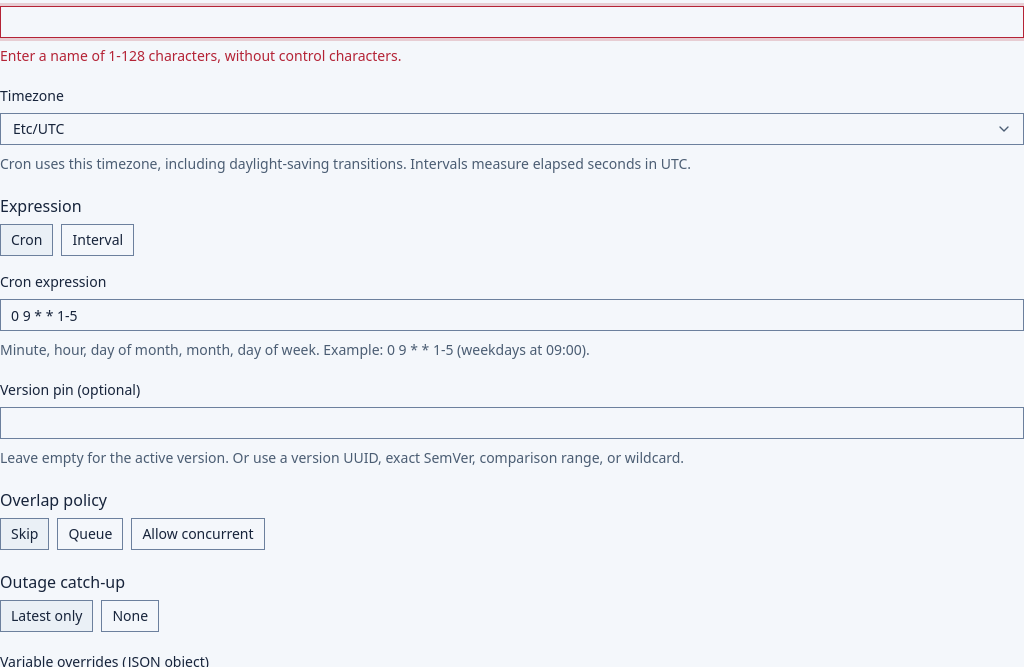
it: schedule action permissions › never previews or saves for a Viewer, including native form submission
This screenshot has width=1024, height=667.
In the field labelled "Schedule name": (512, 22) [0,6,1023,38], type "Viewer draft"
(page scrolled)
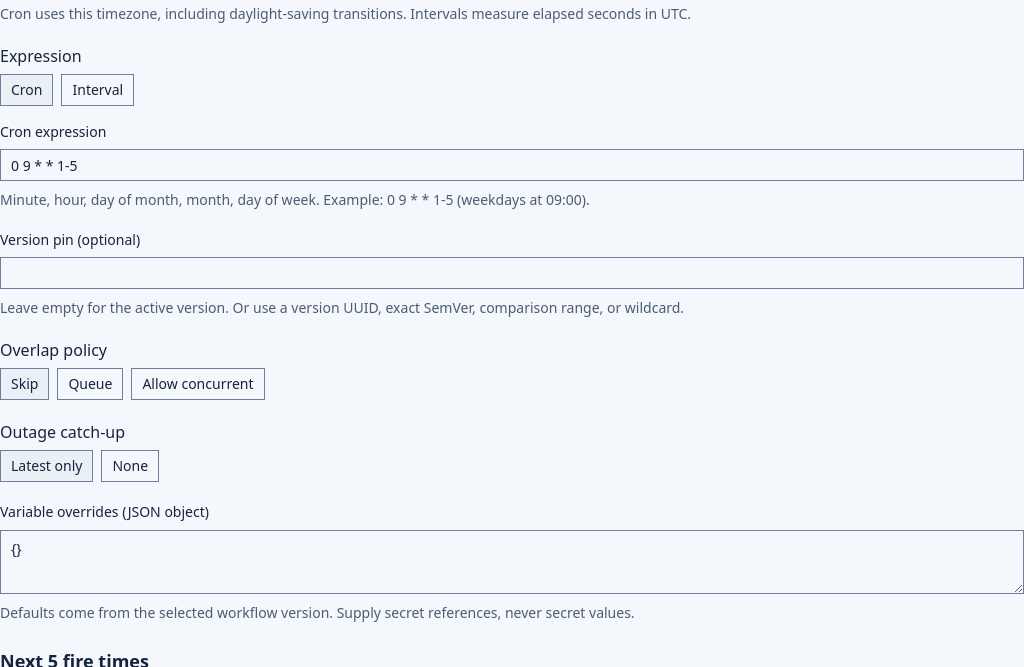
Submit the form "schedule"
(page scrolled)
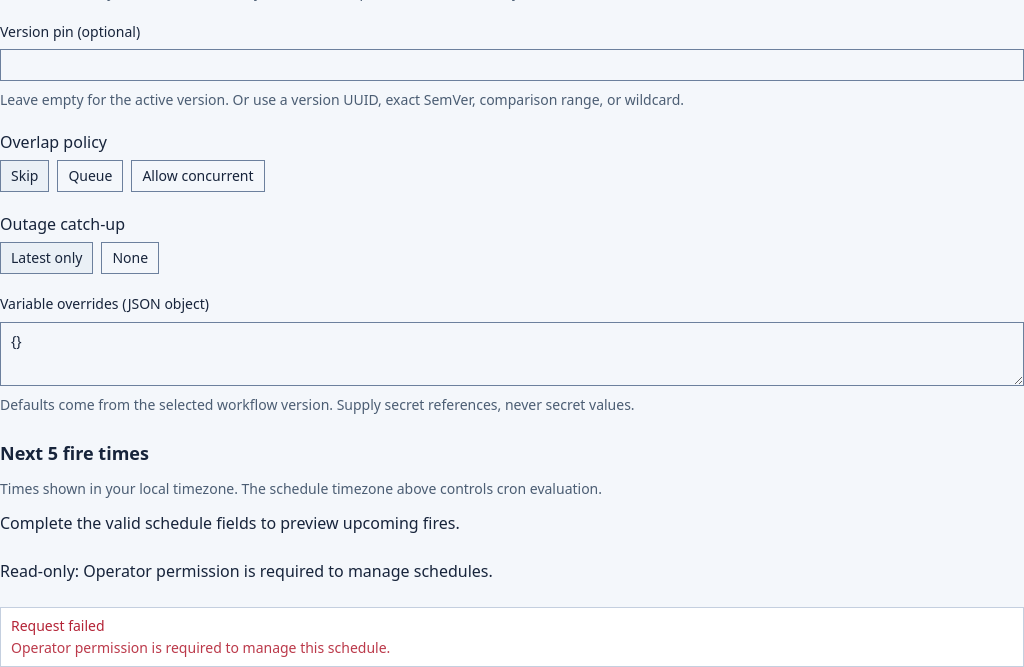
Expected: the message "Request failed Operator permission is required to manage this schedule." is shown, [0,606,1023,666]
